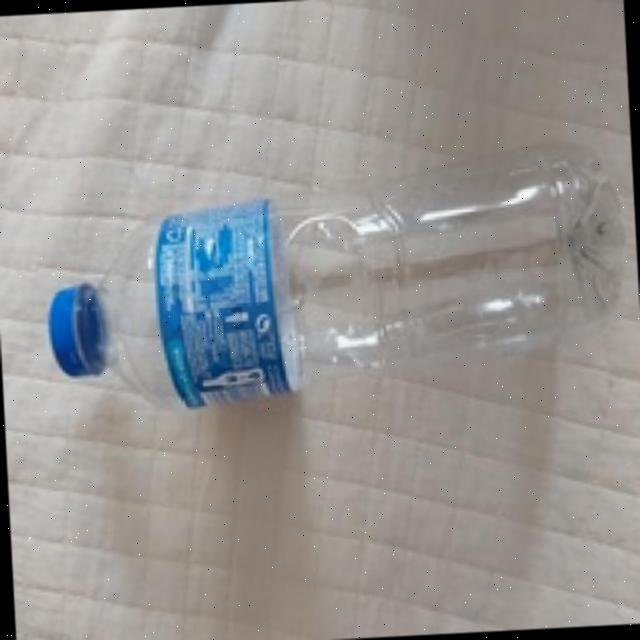bottle: (33, 131, 640, 430)
cap: (45, 288, 108, 388)
label: (151, 185, 292, 442)
